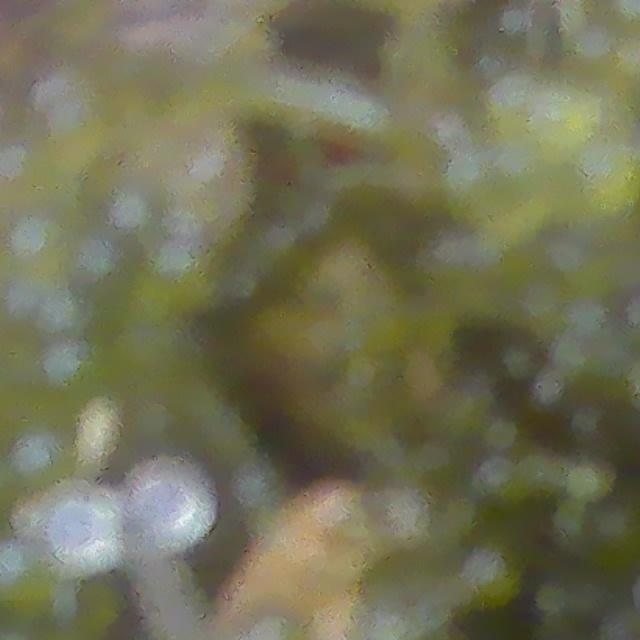SeaGrape: (122, 460, 210, 544), (38, 491, 112, 566)
